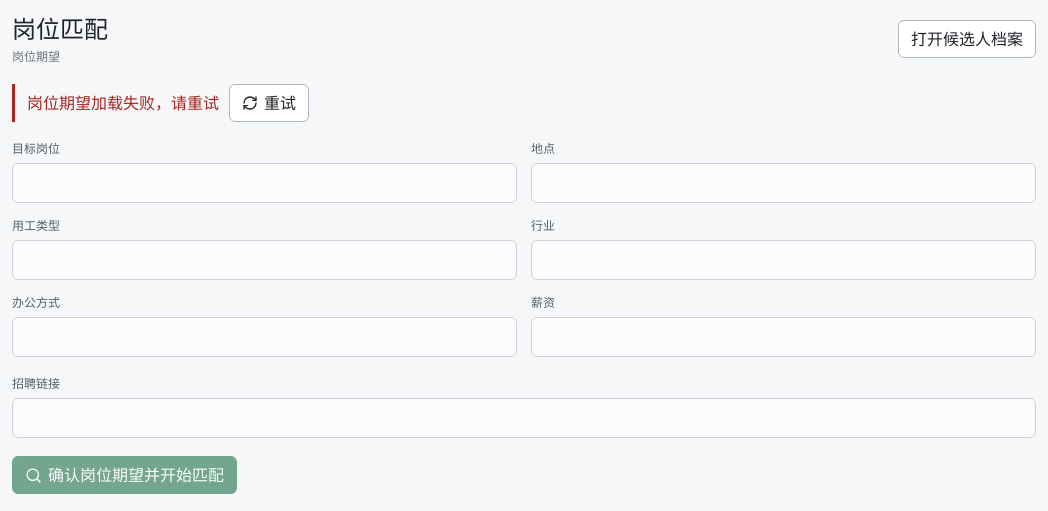
Test case: JobMatchStartPanel › retries a failed profile load before enabling creation
The image size is (1048, 511).
Check: the message reads "岗位期望加载失败，请重试", box [27,93,219,113]
Check: the button "确认岗位期望并开始匹配" is disabled, box [12,456,237,494]
Click the button "重试" at (269, 103), box [229,84,309,122]
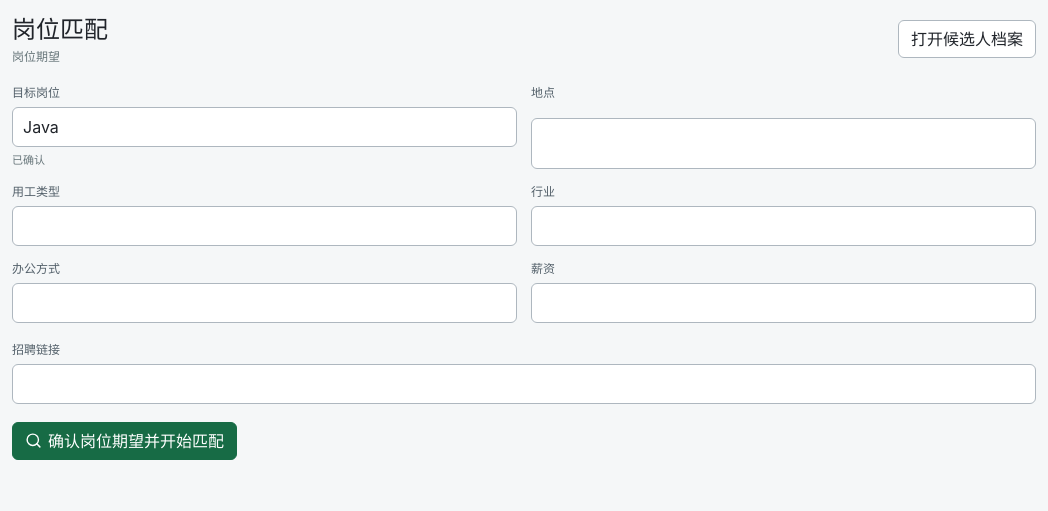
Check: the field showing "Java" is shown, box [12,107,517,147]
